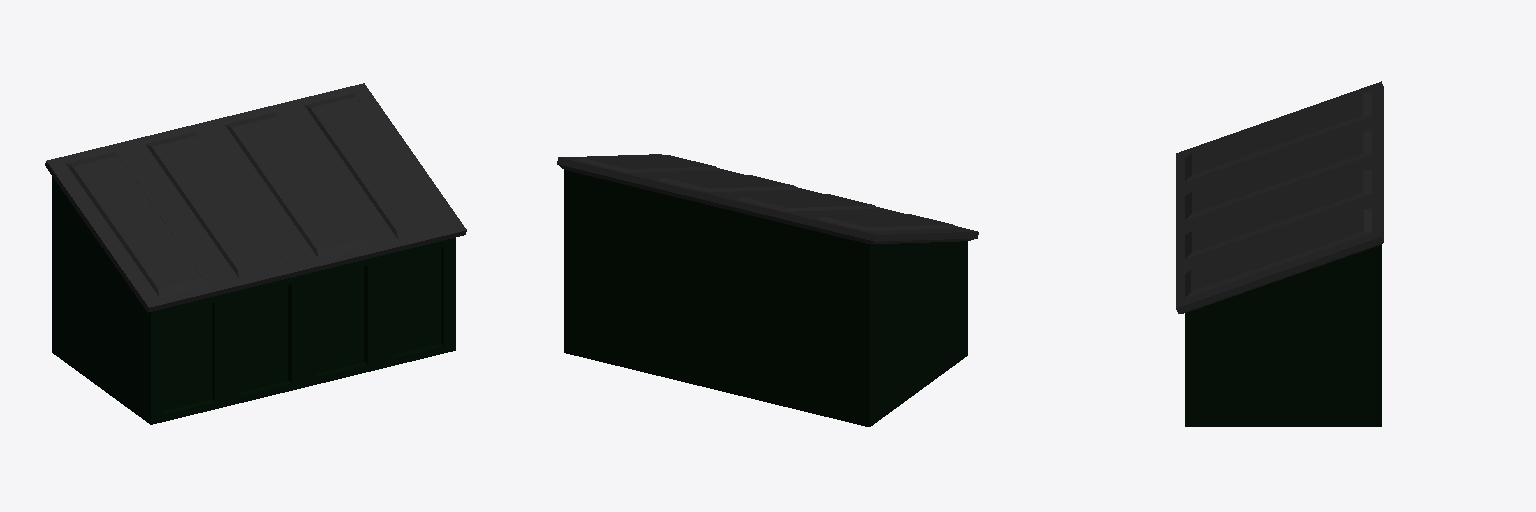
Rendered from trashbox.1.obj.
3 views of the same model, side by side, from view 1: azimuth 30°, elevation 25°; view 2: azimuth 150°, elevation 25°; view 3: azimuth 270°, elevation 25° (orthographic).
Parts seen in each view (by area): view 1: Cube_Cube.001; view 2: Cube_Cube.001; view 3: Cube_Cube.001.
Part boxes in pixels (x1,y1,x2,y2): Cube_Cube.001: (45, 83, 466, 424); Cube_Cube.001: (557, 154, 978, 426); Cube_Cube.001: (1176, 81, 1383, 426).
Bounding box in the file's own units: 2.08 × 1.21 × 1.18.